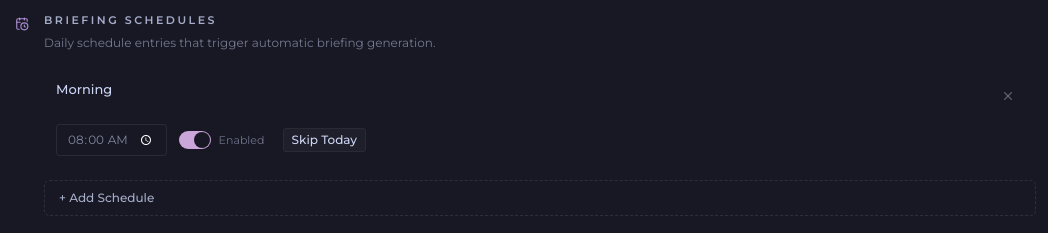
Scenario: BriefingSchedulesCard › applies skip results returned by the API
Click the button "Skip Today".
click(324, 140)  # box [283,128,366,152]
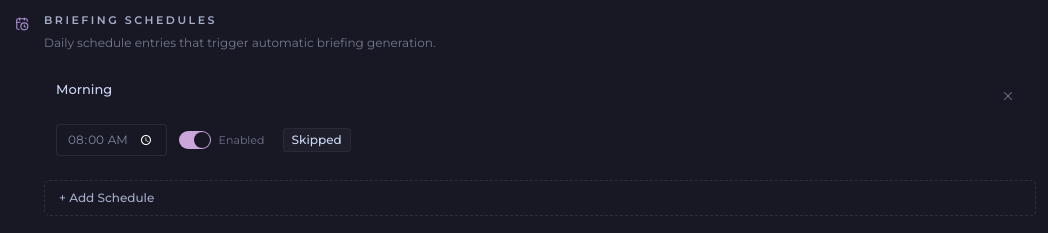
expect the button "Skipped" is shown: met, box [283,128,351,152]
